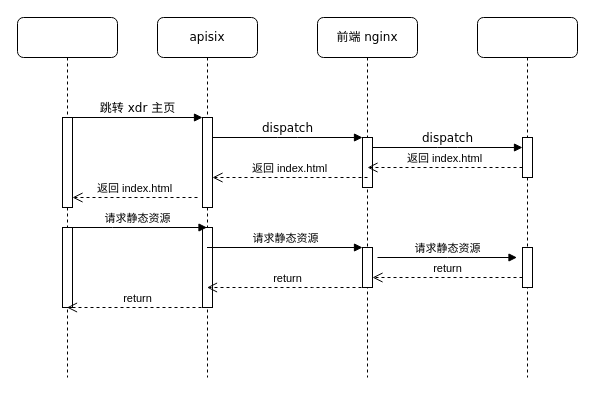
The diagram is 595 pixels wide and 395 high, and some of its shapes have lost their labels. The shapes that lost their labels are listed below. From the top down, each one's centre as x and y in pixels, then its label:
At point 67,197: "浏览器".
At point 527,197: "PVC".
